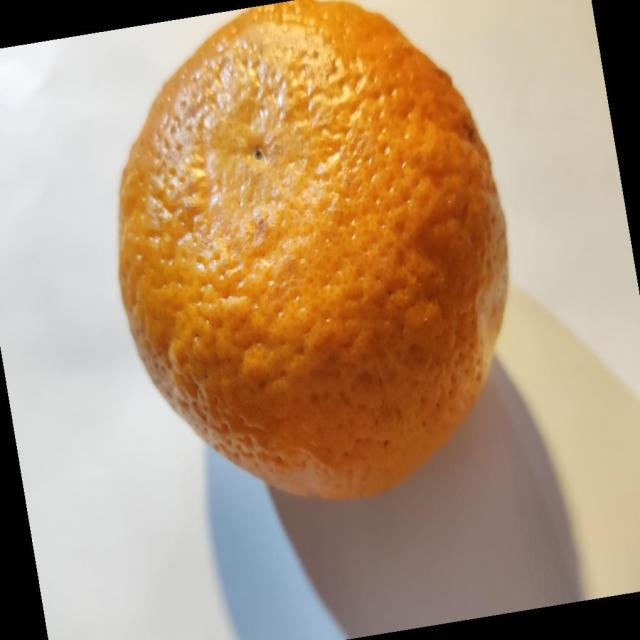agrume: (116, 0, 510, 501)
